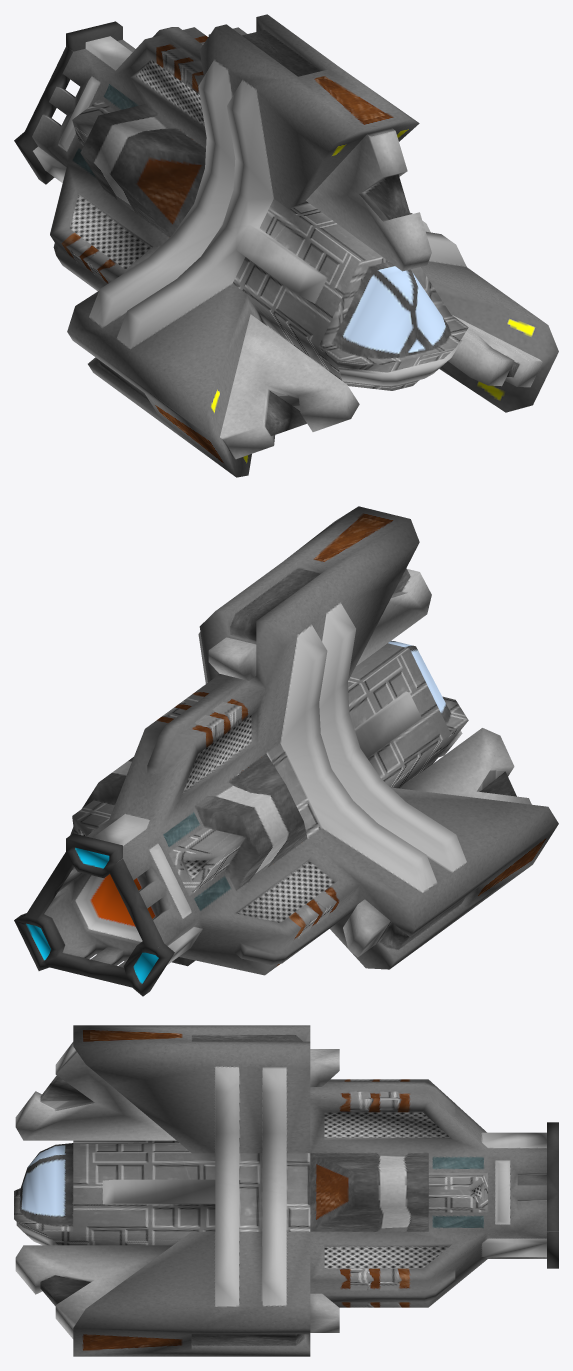
File: fighter03.fbx
The picture shows the model from 3 angles, top to bottom: view 1: azimuth 30°, elevation 25°; view 2: azimuth 150°, elevation 25°; view 3: azimuth 270°, elevation 25°; orthographic projection. The views are drawn at different scales.
Parts seen in each view (by area): view 1: Mesh; view 2: Mesh; view 3: Mesh.
Part boxes in pixels (bbox=[...]): Mesh: bbox=[14, 14, 558, 477]; Mesh: bbox=[14, 506, 558, 996]; Mesh: bbox=[14, 1025, 558, 1356].
Size of the model in its own units: 562 by 500 by 920.
1 material, 1 textured.
